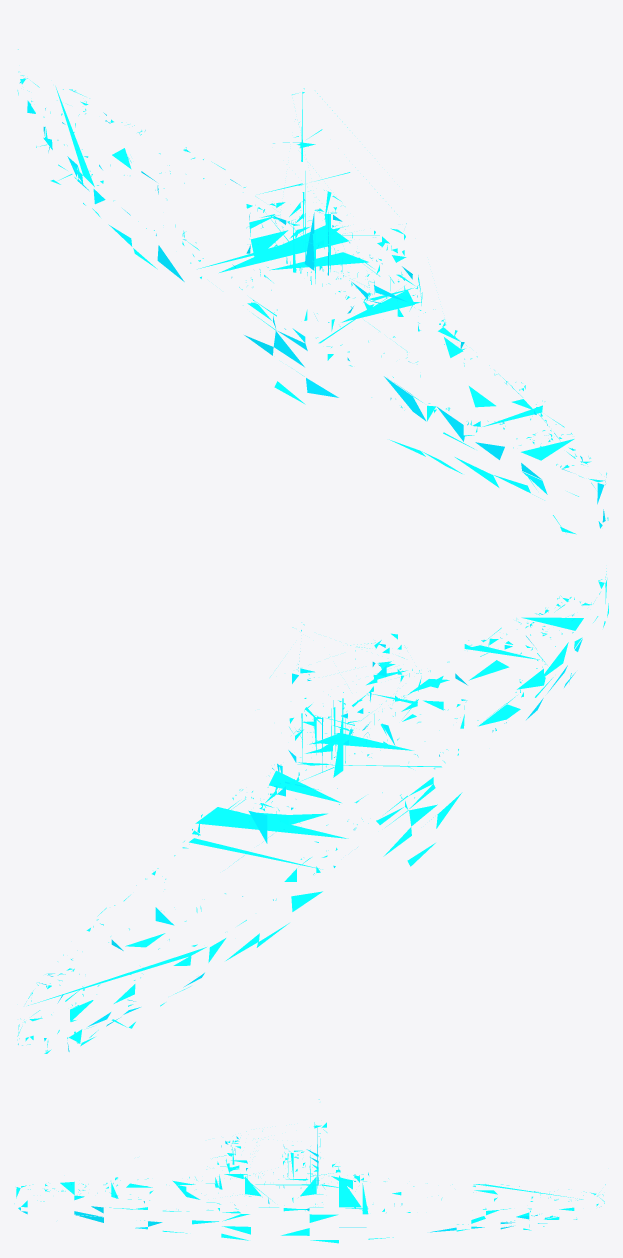
Rendered from Pyotr_Velikiy.glb.
3 renders of one model, top to bottom at view 1: azimuth 30°, elevation 25°; view 2: azimuth 150°, elevation 25°; view 3: azimuth 270°, elevation 25°, orthographic. The views are drawn at different scales.
Bounding box in the file's own units: 1.95 × 3.48 × 14.37.
